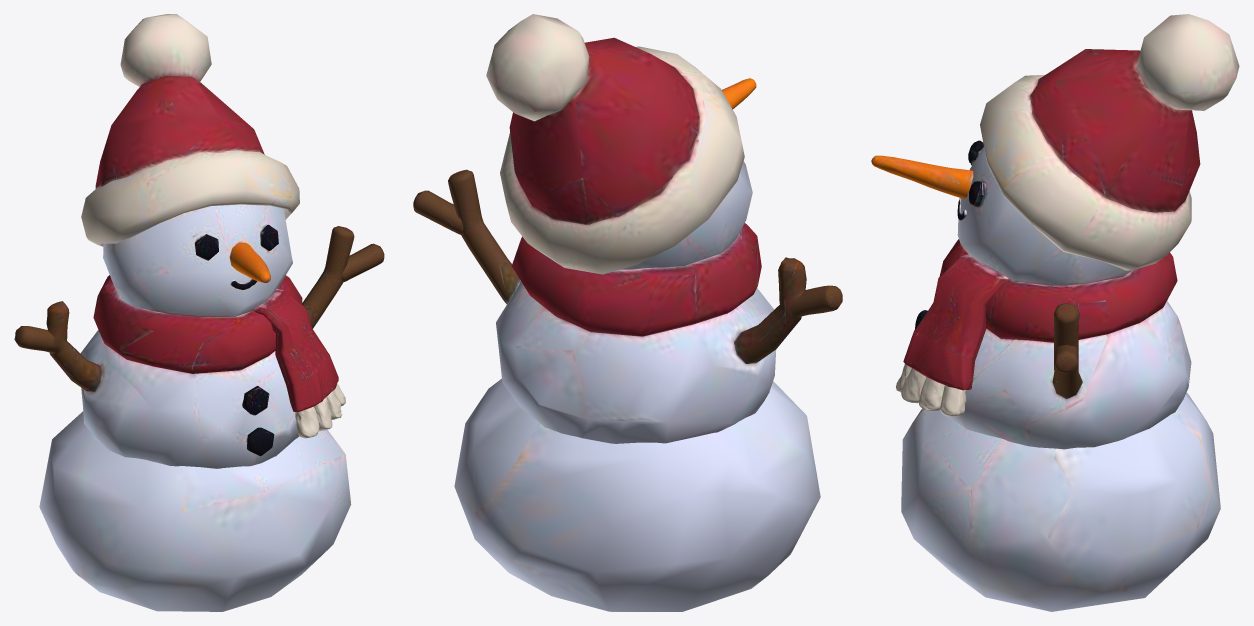
3 renders of one model, left to right at view 1: azimuth 30°, elevation 25°; view 2: azimuth 150°, elevation 25°; view 3: azimuth 270°, elevation 25°, orthographic. The views are drawn at different scales.
Size of the model in its own units: 0.7192 by 0.9517 by 0.5684.
Materials: 1 (1 with a texture image).
